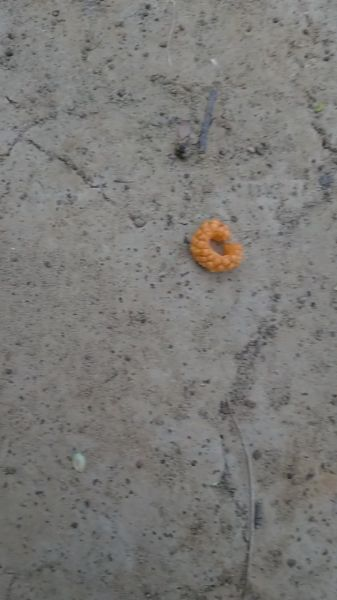eggs: (191, 210, 250, 281)
